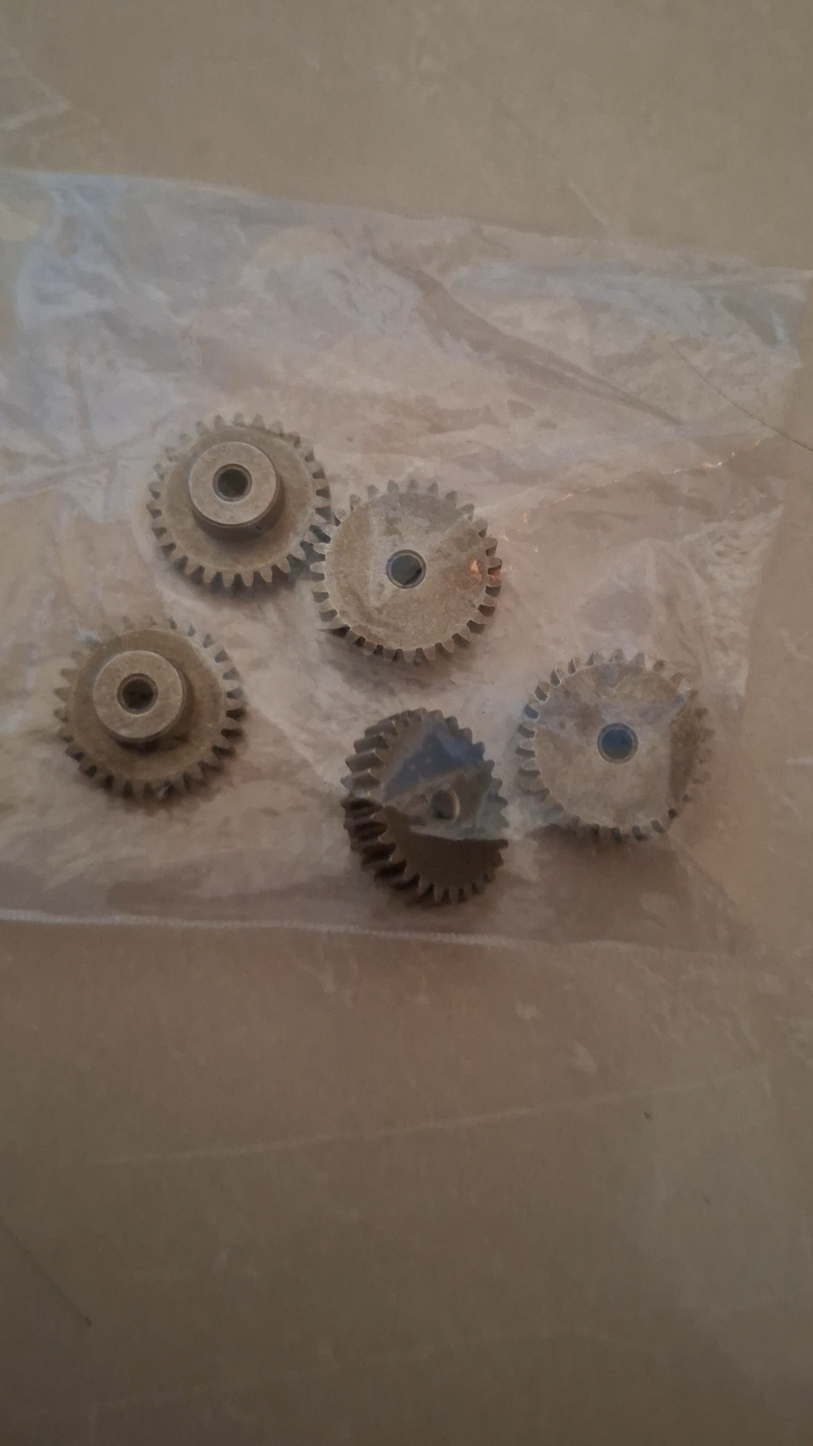spur gear: (518, 650, 711, 840), (312, 480, 501, 662), (56, 620, 243, 796), (149, 415, 331, 588), (344, 709, 506, 903)
